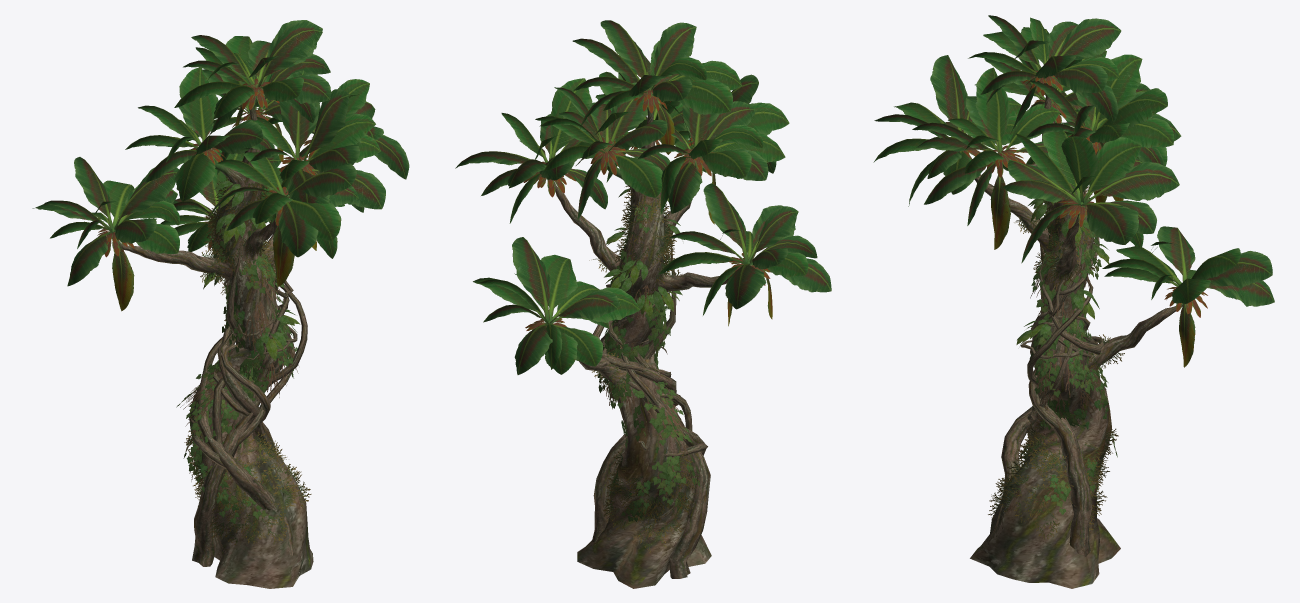
File: Plant - Alien Plant 06 2-MSzAbZUV.glb
3 views of the same model, side by side, from view 1: azimuth 30°, elevation 25°; view 2: azimuth 150°, elevation 25°; view 3: azimuth 270°, elevation 25° (orthographic). The views are drawn at different scales.
Parts seen in each view (by area): view 1: Plant6_2_L0(Clone), Plant6_moss_2_L0(Clone); view 2: Plant6_2_L0(Clone), Plant6_moss_2_L0(Clone); view 3: Plant6_2_L0(Clone), Plant6_moss_2_L0(Clone).
Boxes of the visible parts, bbox=[...] form: Plant6_2_L0(Clone): bbox=[32, 20, 409, 588]; Plant6_moss_2_L0(Clone): bbox=[176, 161, 311, 553]; Plant6_2_L0(Clone): bbox=[455, 20, 831, 588]; Plant6_moss_2_L0(Clone): bbox=[589, 185, 700, 553]; Plant6_2_L0(Clone): bbox=[873, 15, 1274, 588]; Plant6_moss_2_L0(Clone): bbox=[988, 162, 1124, 539].
Bounding box in the file's own units: 6.34 × 9.3 × 6.49.
4 materials, 4 textured.
